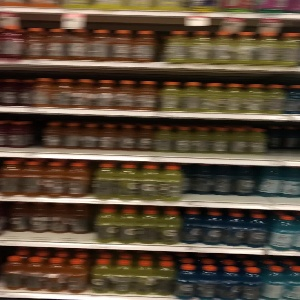void: (270, 123, 300, 158)
